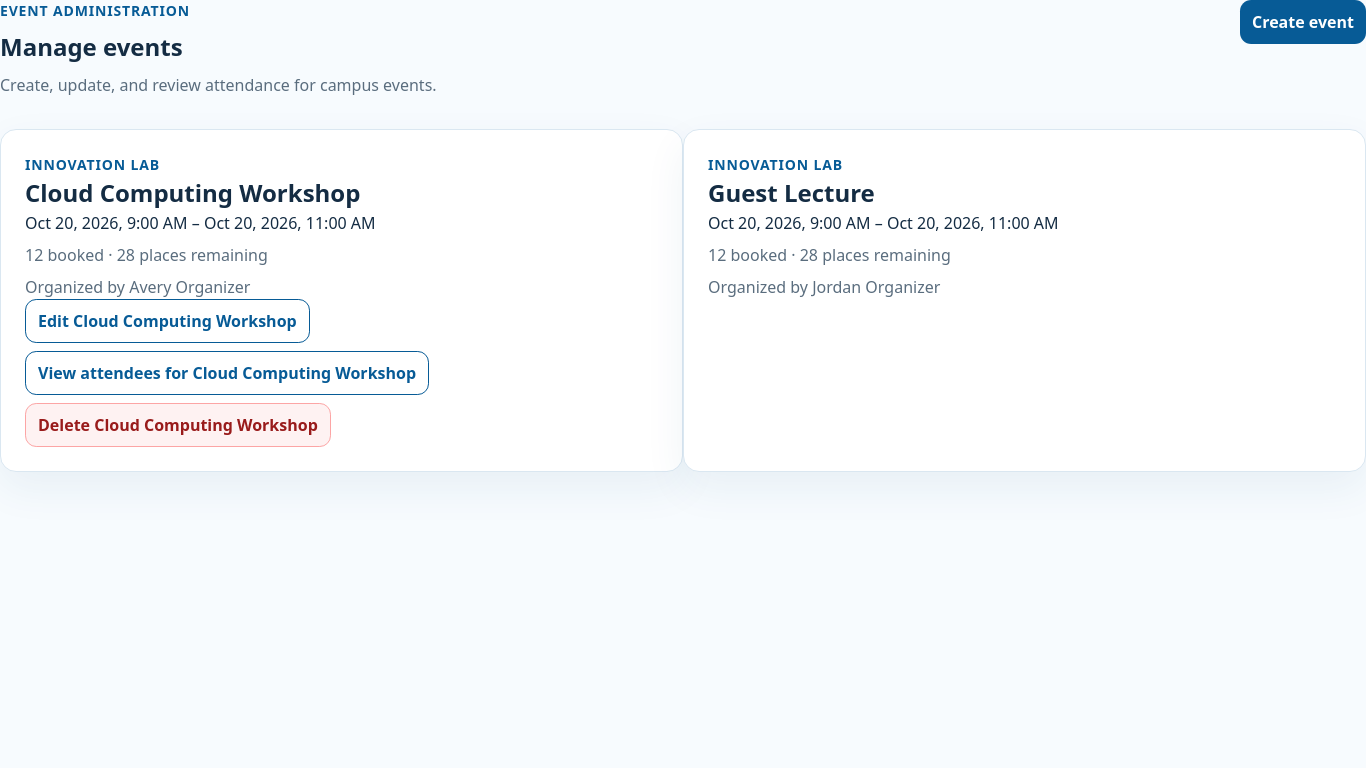
it: ManageEventsPage › does not reopen or populate attendees after the dialog closes during a request
Expected: the heading "Cloud Computing Workshop" is shown, x1=25 y1=176 x2=360 y2=209
Click the button "View attendees for Cloud Computing Workshop": [227, 373] box x1=25 y1=351 x2=429 y2=395
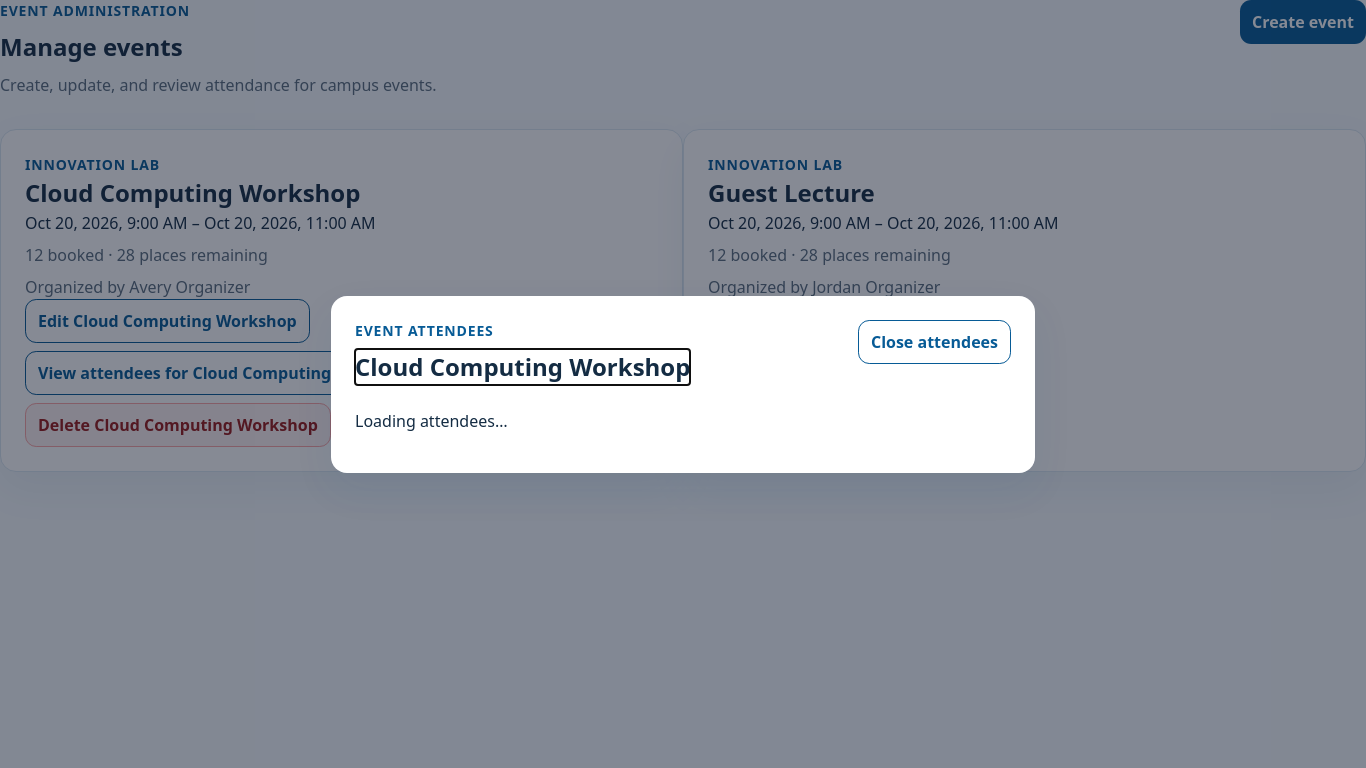
Click the button "Close attendees": [934, 342] box x1=858 y1=320 x2=1011 y2=364
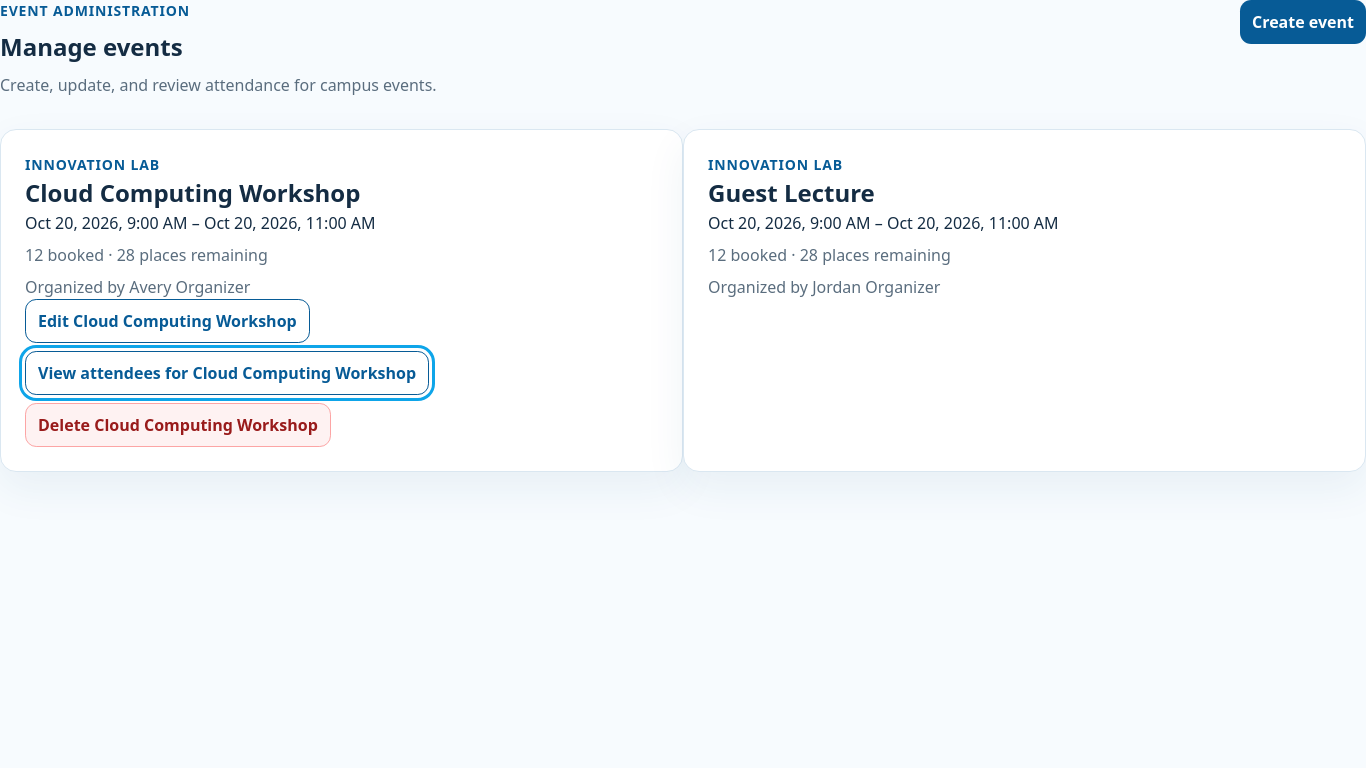
Result: the dialog is gone
